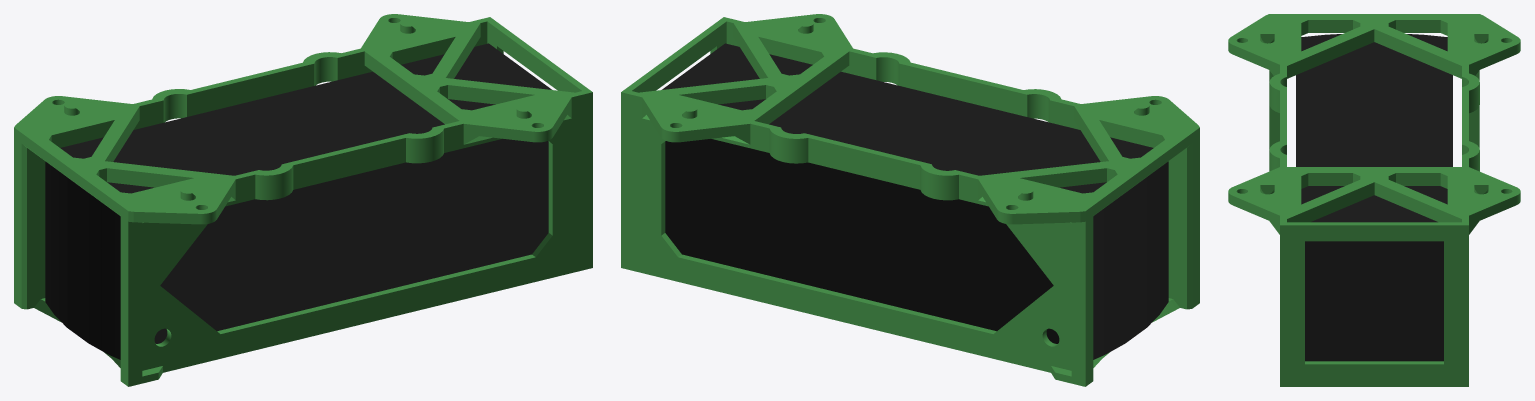
The model's file is holybro_x500_battery.dae.
The picture shows the model from 3 angles, left to right: view 1: azimuth 30°, elevation 25°; view 2: azimuth 150°, elevation 25°; view 3: azimuth 270°, elevation 25°; orthographic projection. The views are drawn at different scales.
Parts seen in each view (by area): view 1: Body1; view 2: Body1; view 3: Body1.
Part boxes in pixels (x1,y1,x2,y2): Body1: [14, 14, 592, 386]; Body1: [621, 14, 1199, 386]; Body1: [1228, 14, 1520, 386].
Size of the model in its own units: 0.14 by 0.0819 by 0.052.
